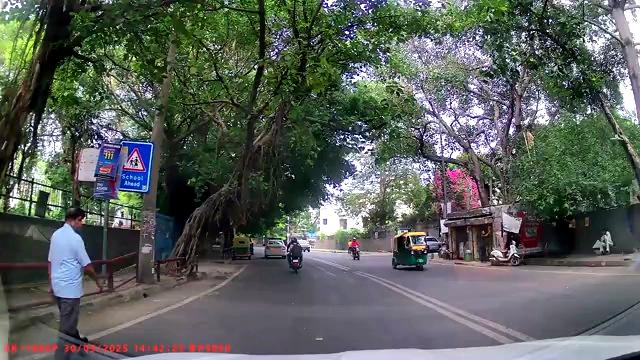motorcycle_with_helmet: (286, 237, 304, 274)
